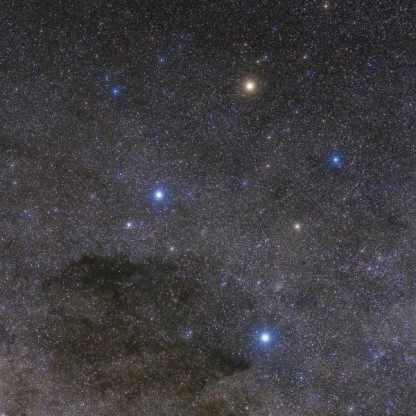Southern Cross: (235, 72, 267, 103), (250, 320, 279, 353), (139, 179, 169, 209), (323, 147, 345, 175)
